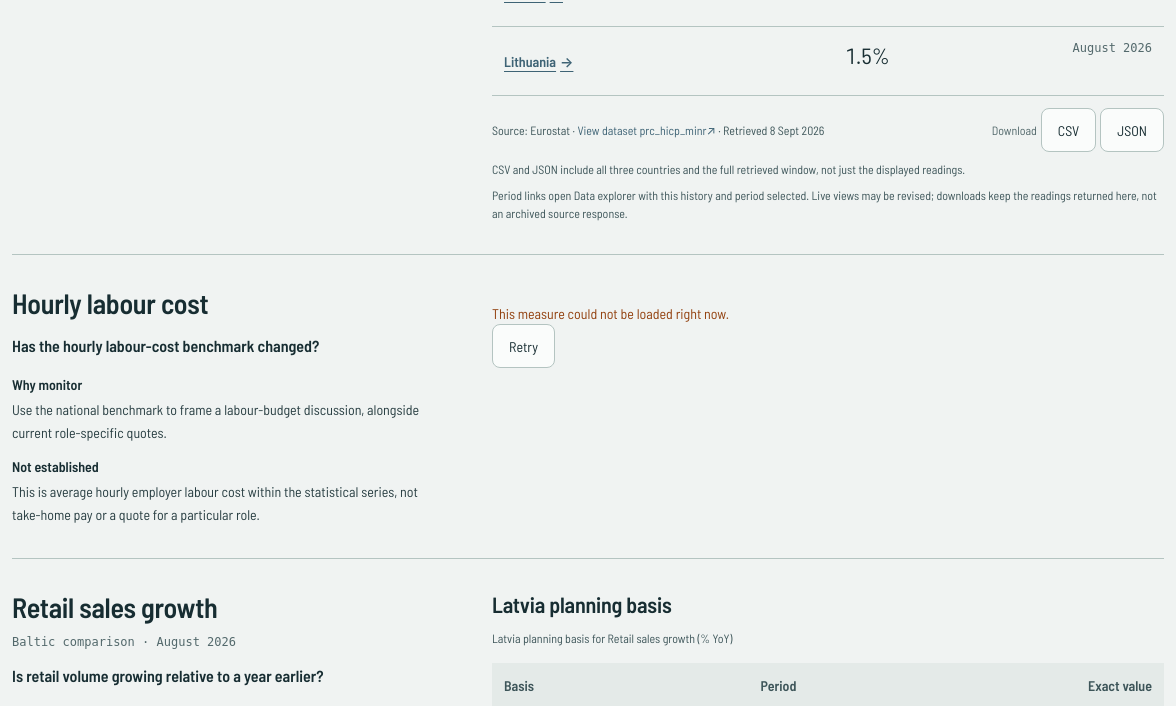
one measure failing does not affect the others › recovers on retry, issuing a fresh request rather than reusing the failure
(page scrolled)
Expected: the text "This measure could not be loaded right now." is shown, x1=492 y1=305 x2=729 y2=322
Step 1. Click the button "Retry" → (524, 346), box x1=492 y1=324 x2=555 y2=368
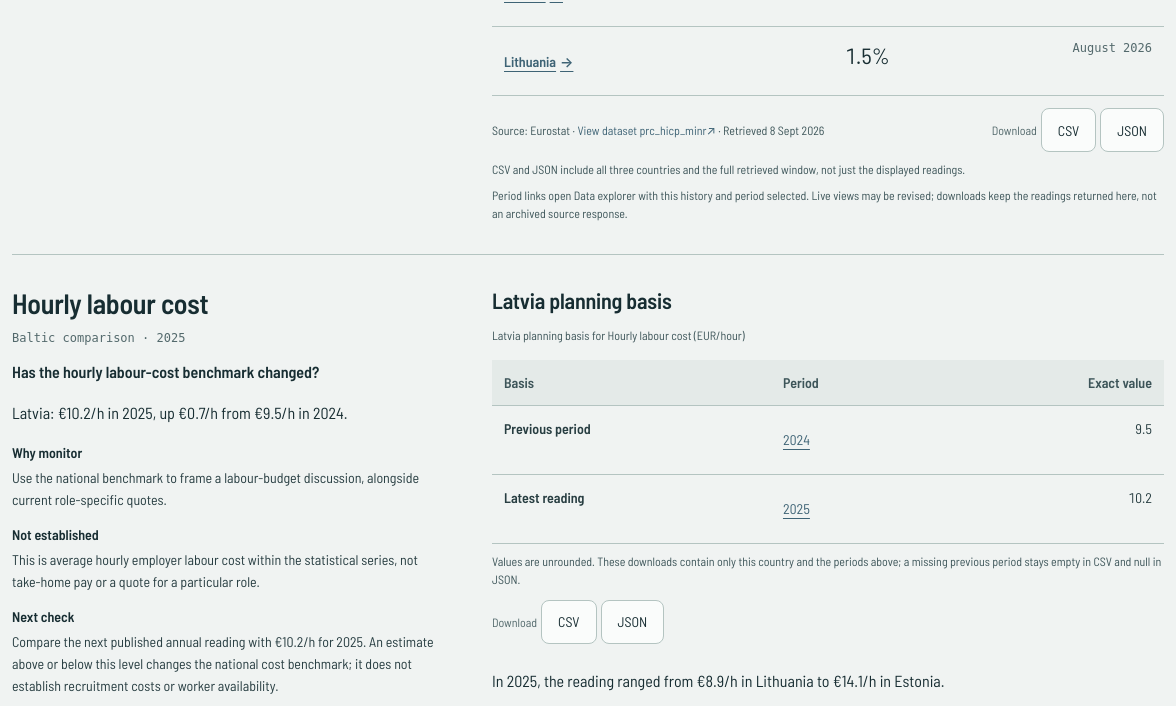
Now the text "could not be loaded" is gone
Now the text "ranged from" is shown, box x1=492 y1=670 x2=944 y2=690
